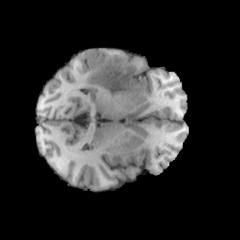glioma: (85, 55, 138, 94)
